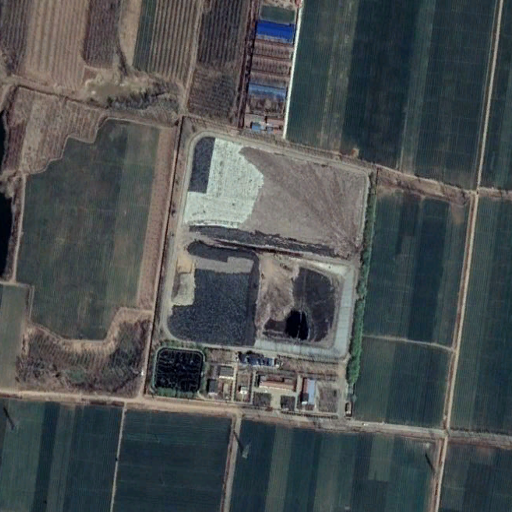lf: (161, 129, 367, 356)
